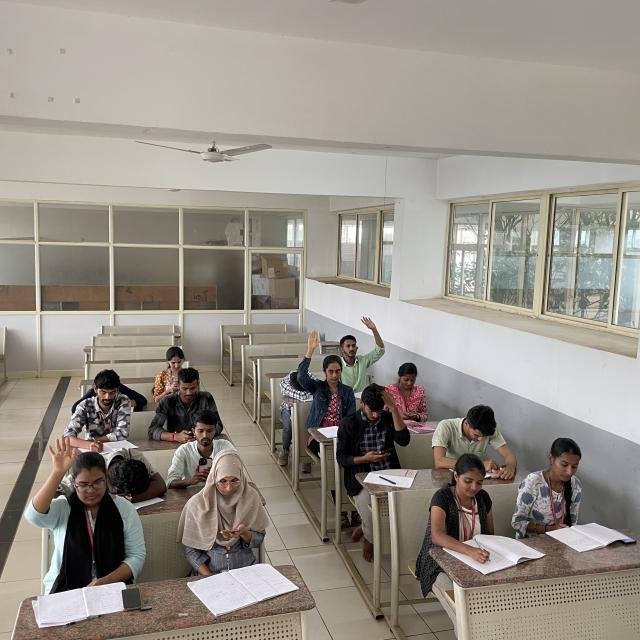Hand Rising: (22, 432, 139, 583), (291, 327, 352, 430), (337, 314, 387, 386)
Reading: (517, 431, 610, 545), (432, 398, 522, 481)
Sleeping: (36, 436, 172, 504)
Using Phone: (179, 446, 270, 577), (334, 380, 416, 479), (164, 412, 241, 486), (150, 368, 228, 440), (382, 358, 438, 422), (150, 346, 196, 395)
Writing: (426, 454, 516, 576)
